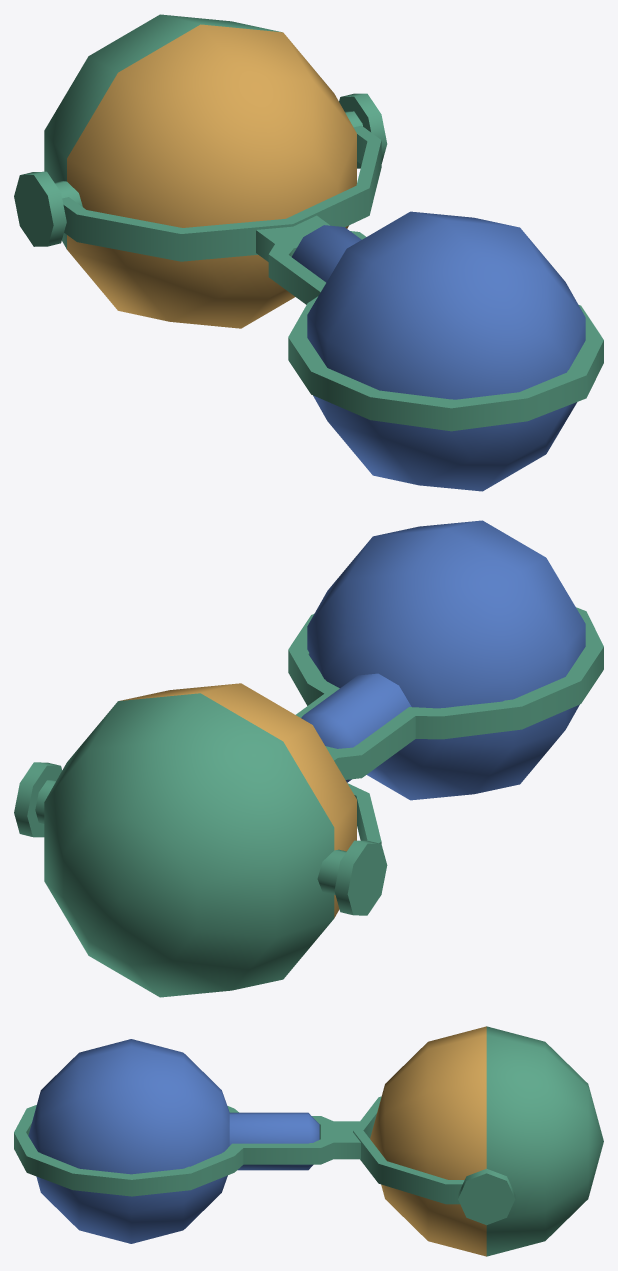
The model's file is SpinningBallToy_01.fbx.
3 renders of one model, top to bottom at view 1: azimuth 30°, elevation 25°; view 2: azimuth 150°, elevation 25°; view 3: azimuth 270°, elevation 25°, orthographic. The views are drawn at different scales.
Visible parts, largest first — view 1: SpinningBallToy_01, SpinningBallToy_Ball; view 2: SpinningBallToy_Ball, SpinningBallToy_01; view 3: SpinningBallToy_01, SpinningBallToy_Ball.
Boxes of the visible parts, x1=… form: SpinningBallToy_01: x1=14, y1=93, x2=603, y2=491; SpinningBallToy_Ball: x1=44, y1=14, x2=356, y2=328; SpinningBallToy_Ball: x1=44, y1=683, x2=356, y2=997; SpinningBallToy_01: x1=14, y1=520, x2=603, y2=915; SpinningBallToy_01: x1=14, y1=1039, x2=515, y2=1243; SpinningBallToy_Ball: x1=370, y1=1026, x2=603, y2=1256.
Size of the model in its own units: 0.1222 by 0.103 by 0.259.
